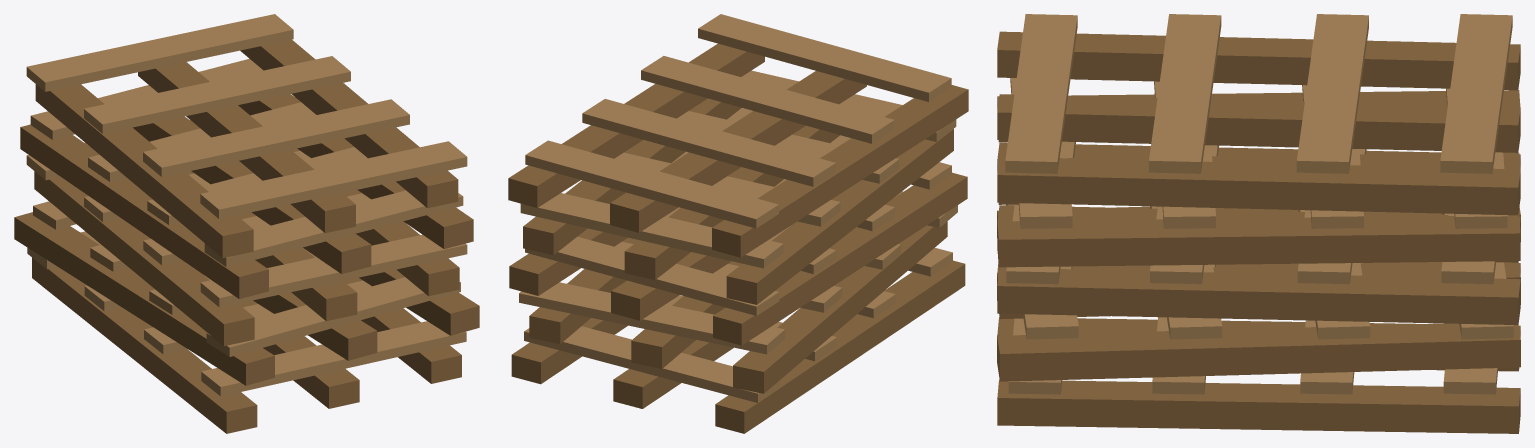
File: pallet_stack.glb
3 renders of one model, left to right at view 1: azimuth 30°, elevation 25°; view 2: azimuth 150°, elevation 25°; view 3: azimuth 270°, elevation 25°, orthographic. The views are drawn at different scales.
Parts seen in each view (by area): view 1: pallet_stack; view 2: pallet_stack; view 3: pallet_stack.
Part boxes in pixels (box(x1,y1,x2,y2)): pallet_stack: box(14, 14, 479, 433); pallet_stack: box(508, 14, 968, 433); pallet_stack: box(997, 14, 1520, 433).
Size of the model in its own units: 0.8574 by 0.685 by 1.2.
